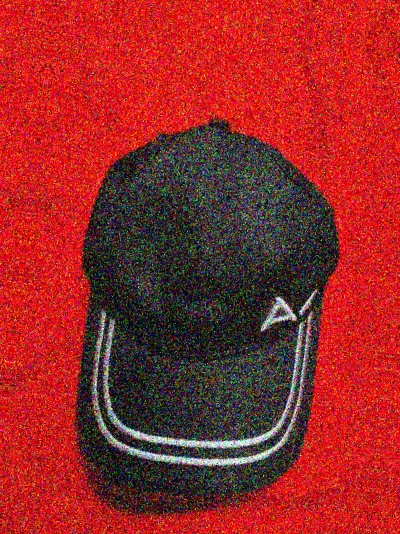Hat: (29, 88, 375, 534), (0, 41, 9, 487)
